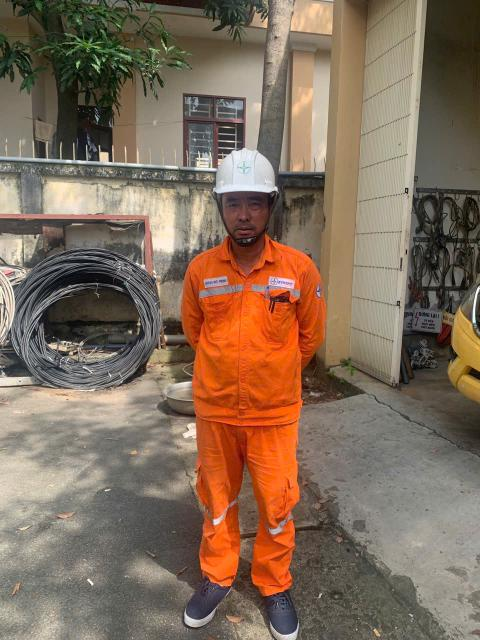helmet: (206, 145, 297, 206), (173, 565, 243, 633), (258, 567, 316, 640)
